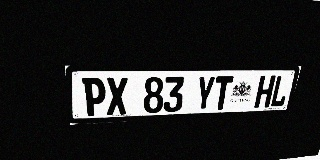3: (163, 77, 184, 112)
8: (143, 77, 165, 113)
H: (254, 76, 276, 108)
L: (269, 75, 291, 107)
P: (82, 77, 106, 116)
T: (212, 76, 234, 110)
X: (106, 77, 128, 115)
Y: (194, 76, 216, 111)
